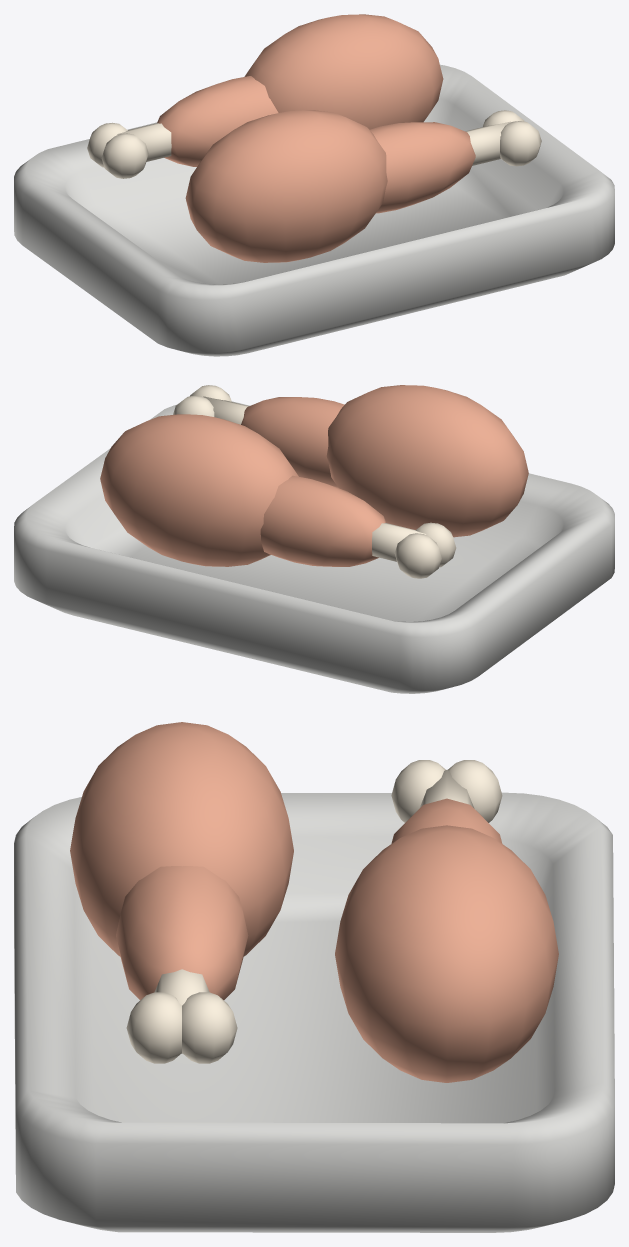
The model's file is chicken.glb.
The picture shows the model from 3 angles, top to bottom: view 1: azimuth 30°, elevation 25°; view 2: azimuth 150°, elevation 25°; view 3: azimuth 270°, elevation 25°; orthographic projection. The views are drawn at different scales.
Parts seen in each view (by area): view 1: body, drumstick, drumstick.002, drumstick.001, drumstick.003, bone_end.002, bone_end, bone, bone.001, bone_end.003; view 2: body, drumstick, drumstick.002, drumstick.003, drumstick.001, bone_end.003, bone.001, bone_end.002, bone, bone_end.001; view 3: body, drumstick.002, drumstick, drumstick.001, bone_end.001, bone_end, drumstick.003, bone_end.002, bone_end.003, bone, bone.001.
Boxes of the visible parts, x1,y1,x2,y2 form: body: (14,64,614,356); drumstick: (185,110,387,262); drumstick.002: (244,14,443,129); drumstick.001: (370,122,475,213); drumstick.003: (157,76,278,166); bone_end.002: (101,133,148,178); bone_end: (500,121,541,166); bone: (465,121,510,165); bone.001: (117,123,171,161); bone_end.003: (87,122,127,167); body: (14,401,614,693); drumstick: (326,385,528,537); drumstick.002: (100,414,298,566); drumstick.003: (260,475,386,566); drumstick.001: (241,397,344,487); bone_end.003: (394,533,441,578); bone.001: (372,523,426,561); bone_end.002: (415,522,456,567); bone: (203,396,248,424); bone_end.001: (173,395,214,416); body: (14,792,614,1232); drumstick.002: (335,825,558,1082); drumstick: (70,722,293,956); drumstick.001: (116,866,248,1000); bone_end.001: (182,992,237,1063); bone_end: (126,992,181,1063); drumstick.003: (391,798,502,843); bone_end.002: (391,760,445,822); bone_end.003: (448,760,502,822); bone: (154,969,209,1053); bone.001: (419,770,474,808).
Size of the model in its own units: 0.8 by 0.305 by 0.59.
